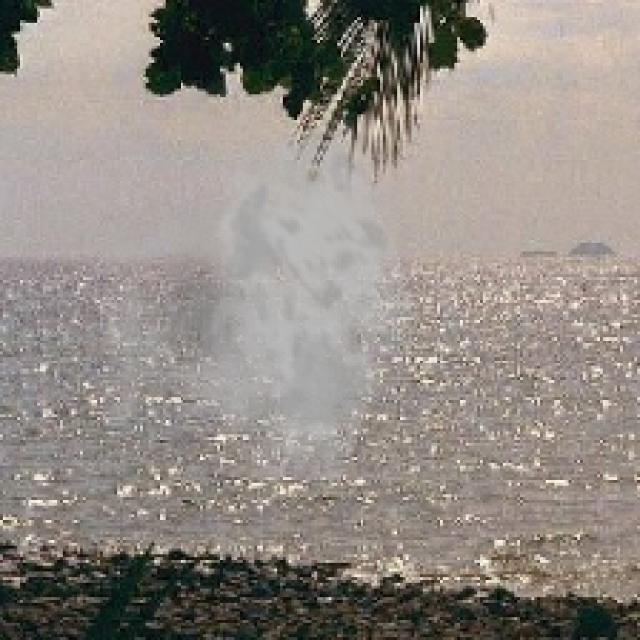Smoke: (68, 111, 414, 508)
